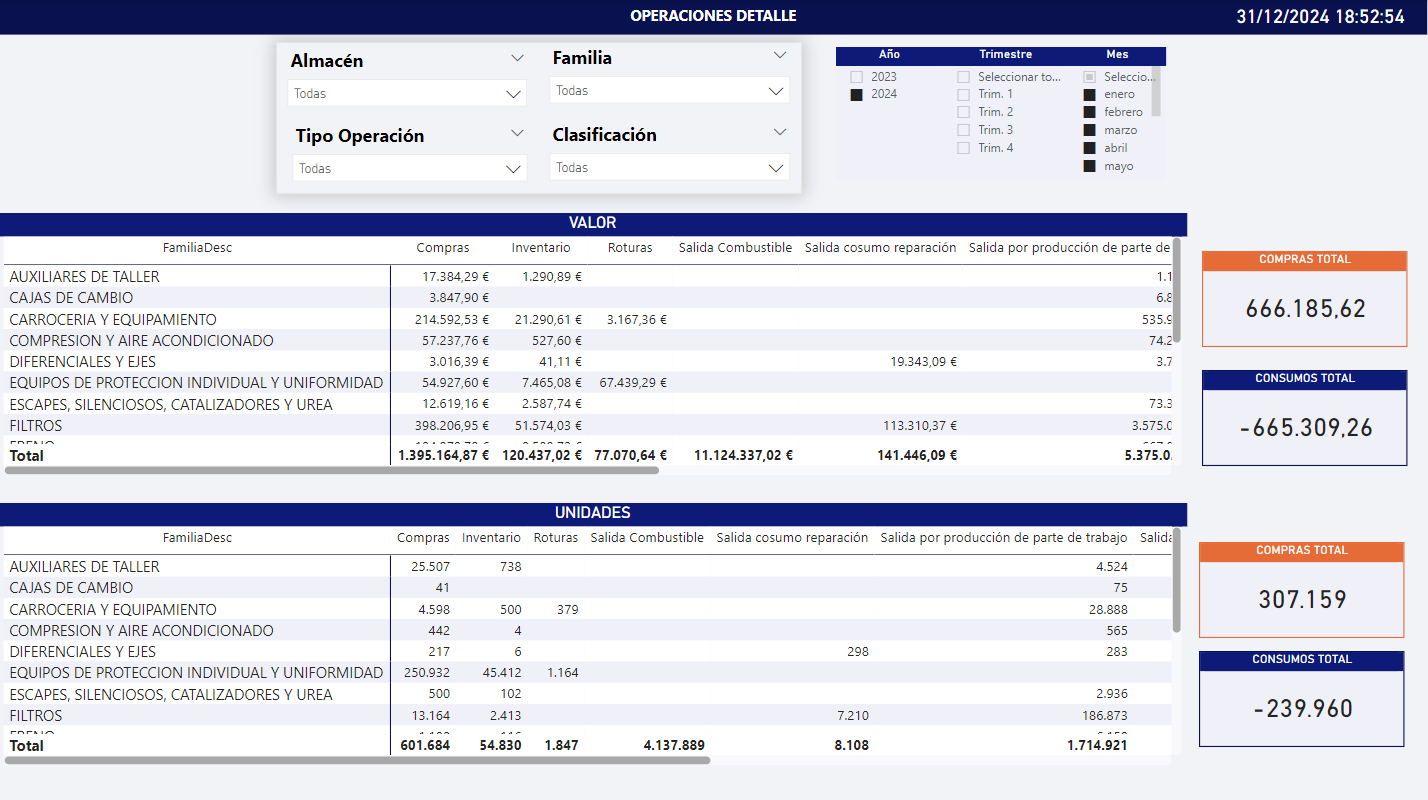

The dashboard page shown, as its layout file describes it:
{"tool":"powerbi","page":{"name":"E. Operaciones Detalle","canvas":[1280,720],"ordinal":4},"visuals":[{"type":"textbox","box":[248.6,37.8,470.8,136.1],"z":0},{"type":"slicer","title":"Año","fields":{"Values":["1 Calendario.Date.Variación.Jerarquía de fechas.Año"]},"box":[750.8,42.4,95.8,118.8],"z":1000},{"type":"slicer","title":"Trimestre","fields":{"Values":["1 Calendario.Date.Variación.Jerarquía de fechas.Trimestre"]},"box":[846.6,42.4,112.6,118.8],"z":2000},{"type":"textbox","box":[0.9,0,1279.1,31.1],"z":3000},{"type":"pivotTable","title":"VALOR","fields":{"Values":["Sum(movimientos_almacenes.ValorActual)"],"Columns":["movimientos_almacenes.OperacionDesc"],"Rows":["movimientos_almacenes.FamiliaDesc"]},"box":[0,190.6,1064.9,240.3],"z":4000},{"type":"slicer","title":"Mes","fields":{"Values":["1 Calendario.Date.Variación.Jerarquía de fechas.Mes"]},"box":[959.2,42.4,86.9,118.8],"z":5000},{"type":"card","fields":{"Values":["Min(Actualizacion.Last Refresh Date Time)"]},"box":[1089.4,0,190.6,31.1],"z":6000},{"type":"slicer","fields":{"Values":["movimientos_almacenes.Clasificacion"]},"box":[484,104,235.9,70],"z":7000},{"type":"slicer","fields":{"Values":["movimientos_almacenes.AlmacenDesc"]},"box":[248.6,37.8,235.4,70],"z":8000},{"type":"pivotTable","title":"UNIDADES","fields":{"Rows":["movimientos_almacenes.FamiliaDesc"],"Columns":["movimientos_almacenes.OperacionDesc"],"Values":["Sum(movimientos_almacenes.UnidadesActual)"]},"box":[0,450.4,1064.9,240.3],"z":11000},{"type":"card","title":"COMPRAS TOTAL","fields":{"Values":["Sum(movimientos_almacenes.ValorAñadido)"]},"box":[1078.2,225.2,183.5,86],"z":12000},{"type":"card","title":"CONSUMOS TOTAL","fields":{"Values":["Sum(movimientos_almacenes.ValorAñadido)"]},"box":[1078.2,331.6,183.5,86],"z":13000},{"type":"slicer","fields":{"Values":["movimientos_almacenes.OperacionDesc"]},"box":[253.4,104.9,230.7,70.9],"z":14000},{"type":"card","title":"COMPRAS TOTAL","fields":{"Values":["Sum(movimientos_almacenes.UnidadesAñadidas)"]},"box":[1075.6,485,183.5,86],"z":15000},{"type":"card","title":"CONSUMOS TOTAL","fields":{"Values":["Sum(movimientos_almacenes.UnidadesAñadidas)"]},"box":[1075.6,582.6,183.5,86],"z":16000},{"type":"slicer","fields":{"Values":["movimientos_almacenes.FamiliaDesc"]},"box":[484,34.8,235.9,70],"z":17000}]}

Visuals, with their boxes in screenshot pixels (x1, y1, x2, y2), scaled from the page's 1280x720 canvas onto the 1428x800 screenshot:
textbox: x1=277 y1=42 x2=803 y2=193
"Año" slicer: x1=838 y1=47 x2=944 y2=179
"Trimestre" slicer: x1=944 y1=47 x2=1070 y2=179
textbox: x1=1 y1=0 x2=1427 y2=35
"VALOR" pivotTable: x1=0 y1=212 x2=1188 y2=479
"Mes" slicer: x1=1070 y1=47 x2=1167 y2=179
card - Min(Actualizacion.Last Refresh Date Time): x1=1215 y1=0 x2=1427 y2=35
slicer - movimientos_almacenes.Clasificacion: x1=540 y1=116 x2=803 y2=193
slicer - movimientos_almacenes.AlmacenDesc: x1=277 y1=42 x2=540 y2=120
"UNIDADES" pivotTable: x1=0 y1=500 x2=1188 y2=767
"COMPRAS TOTAL" card: x1=1203 y1=250 x2=1408 y2=346
"CONSUMOS TOTAL" card: x1=1203 y1=368 x2=1408 y2=464
slicer - movimientos_almacenes.OperacionDesc: x1=283 y1=117 x2=540 y2=195
"COMPRAS TOTAL" card: x1=1200 y1=539 x2=1405 y2=634
"CONSUMOS TOTAL" card: x1=1200 y1=647 x2=1405 y2=743
slicer - movimientos_almacenes.FamiliaDesc: x1=540 y1=39 x2=803 y2=116
